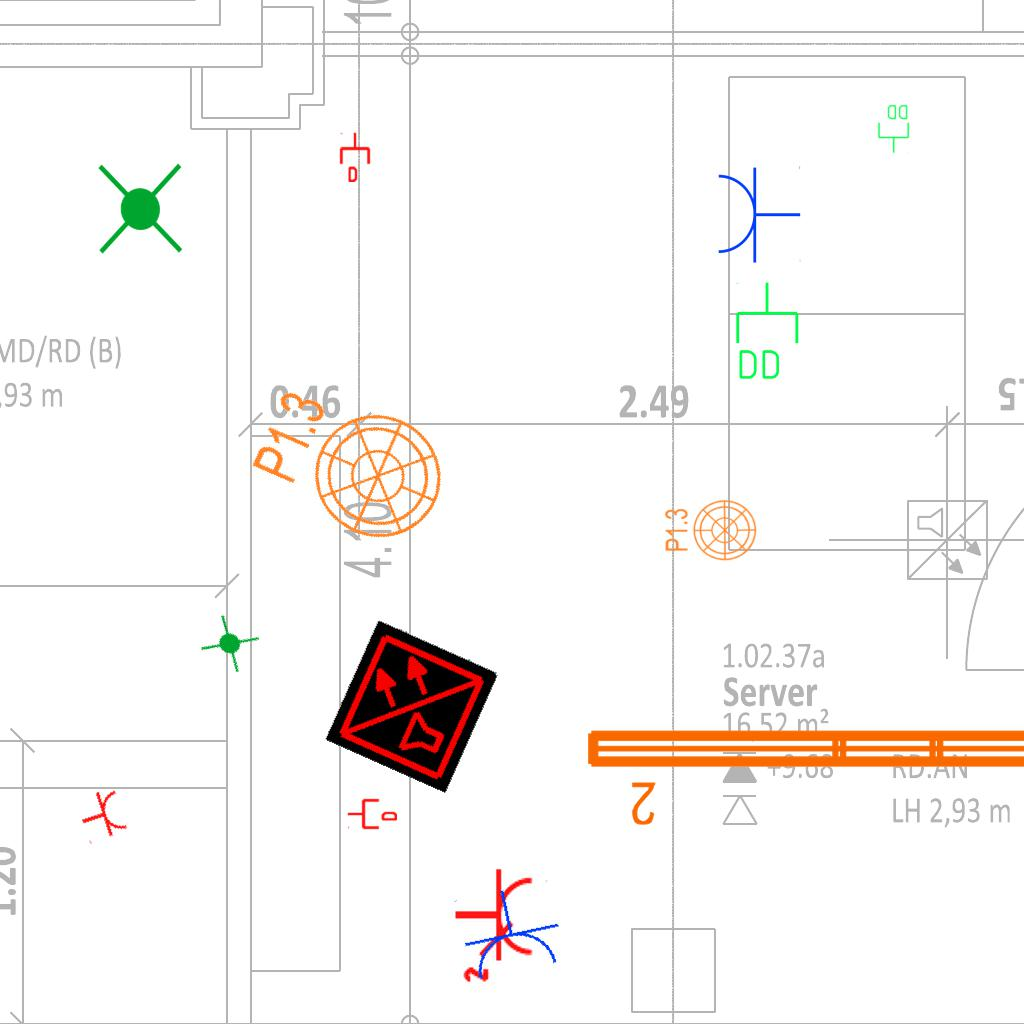Ambulanz_Pendelleuchte_LED: (579, 718, 1024, 830)
Aufbaurundleuchte_LED_Treppenhaus: (225, 351, 470, 562), (656, 493, 758, 562)
Datenanschluss_einfach: (347, 797, 397, 831), (338, 132, 372, 182)
Datenanschluss_zweifach: (732, 280, 801, 383), (877, 103, 911, 154)
Notlichtbaustein_in_Allgemeinbeleuchtug_engebaut_Einbau_(1UG_und_2UG_Aufbauvaria: (90, 159, 193, 259), (194, 608, 265, 680)
OKW_Multisensormelder_(Kombination_optischer_Rauch-Kahlenmonoxid_Waerme-Melder): (324, 618, 500, 794)
Schukosteckdose_einfach: (452, 879, 568, 986), (714, 164, 801, 264), (74, 785, 131, 847)
Schukosteckdose_mehrfach: (449, 864, 537, 985)
